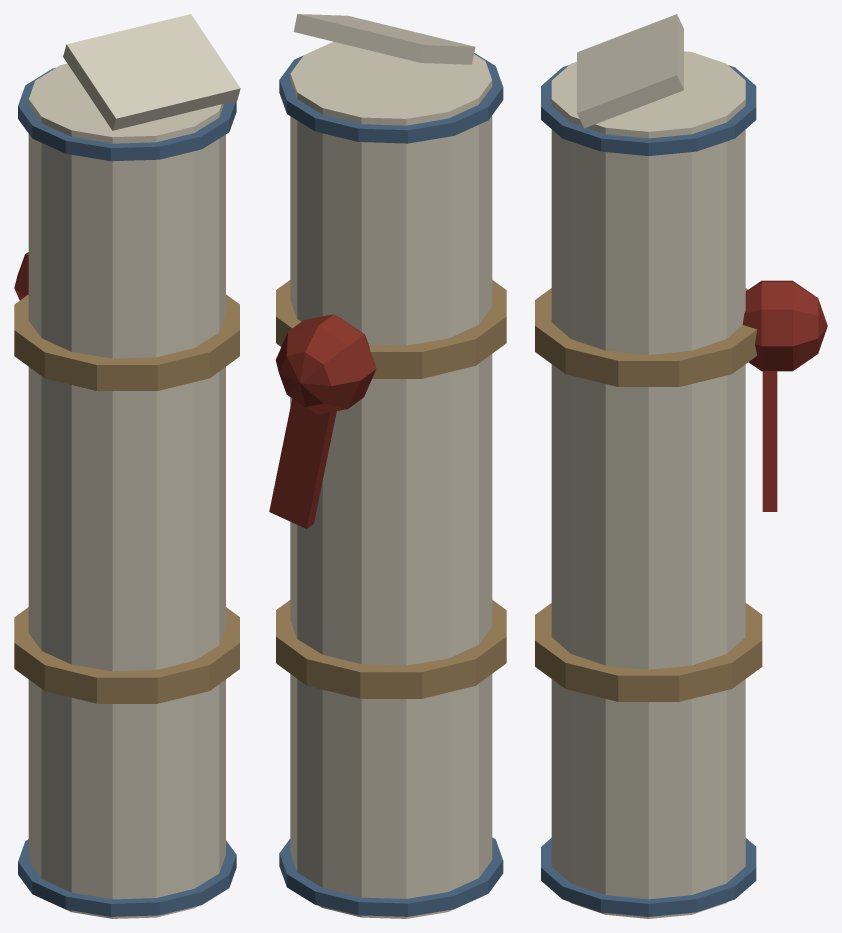
Rendered from BlueprintScroll.glb.
The picture shows the model from 3 angles, left to right: view 1: azimuth 30°, elevation 25°; view 2: azimuth 150°, elevation 25°; view 3: azimuth 270°, elevation 25°; orthographic projection. The views are drawn at different scales.
Parts seen in each view (by area): view 1: Handle, Body; view 2: Handle, Body; view 3: Handle, Body.
Boxes of the visible parts, x1,y1,x2,y2 form: Handle: (14, 63, 239, 918); Body: (14, 14, 240, 300); Handle: (276, 41, 506, 918); Body: (269, 14, 475, 528); Handle: (535, 51, 762, 918); Body: (577, 14, 827, 511).
Bounding box in the file's own units: 0.6279 × 2.56 × 0.8089.
